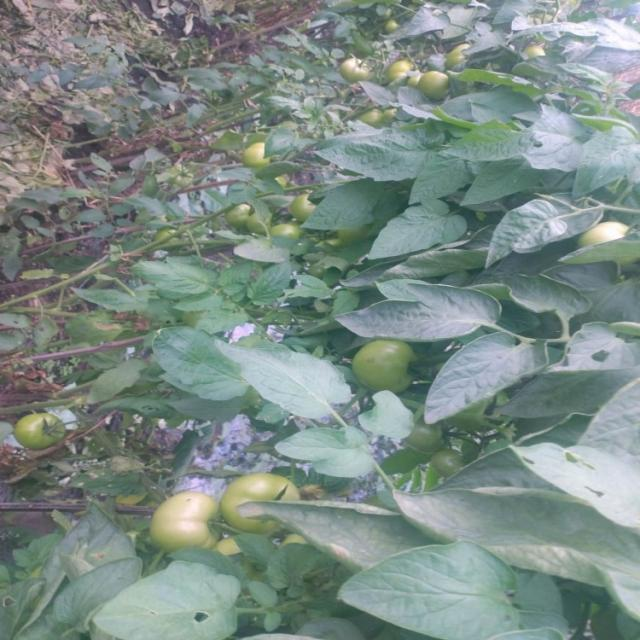tomato: (149, 488, 230, 560), (225, 469, 297, 541), (351, 340, 412, 406), (13, 409, 75, 456), (580, 219, 627, 260), (421, 65, 461, 102), (240, 133, 271, 168), (293, 182, 318, 220), (339, 50, 367, 83), (390, 62, 416, 84), (274, 213, 292, 242), (527, 41, 550, 60)
